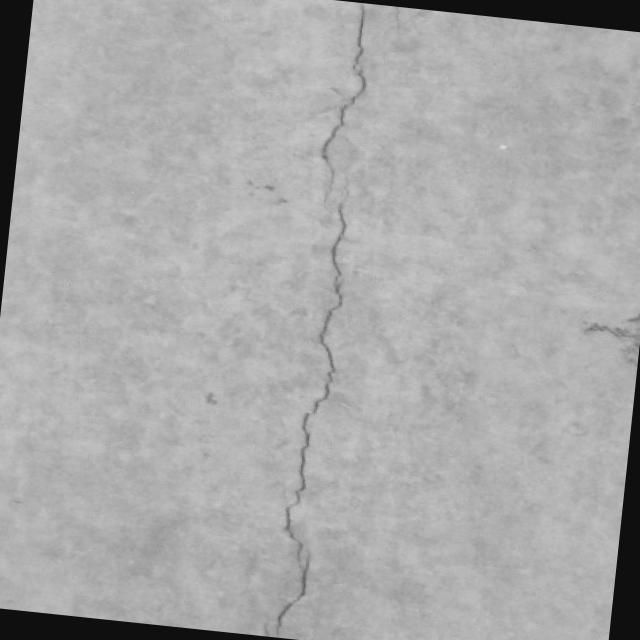crack: (251, 0, 388, 640)
